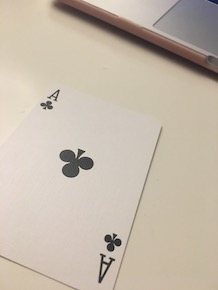AceOfClubs: (1, 78, 164, 290)
